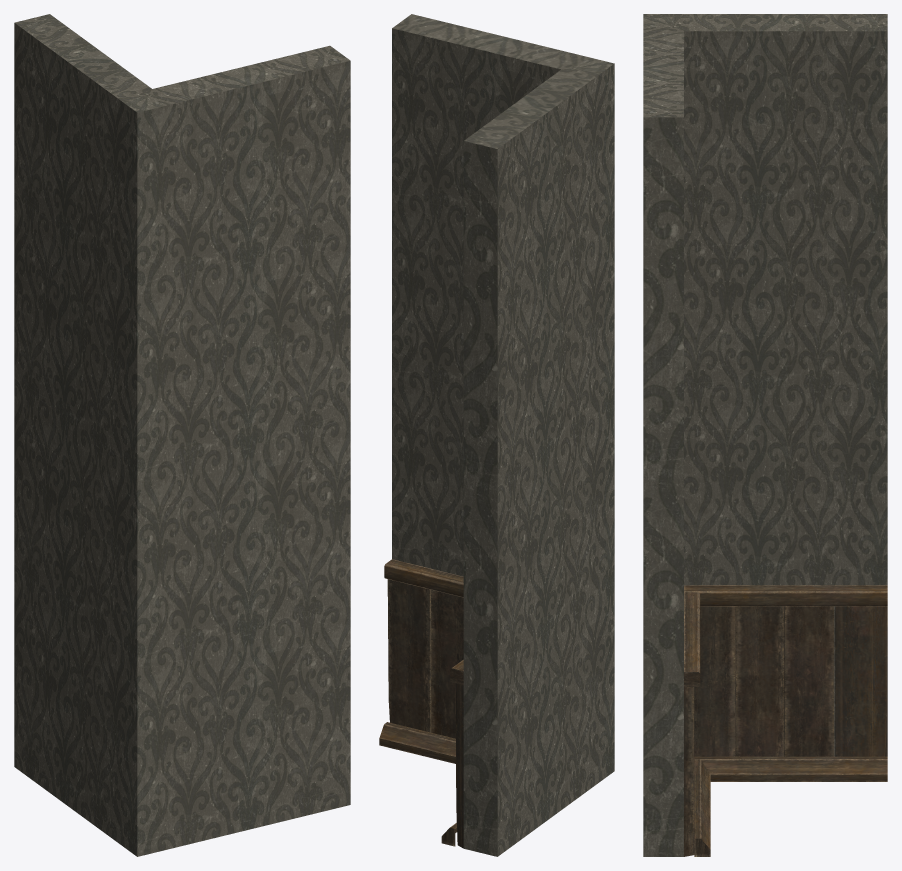
The model's file is SM_Wall_1m_Corn_Plinth.fbx.
3 views of the same model, side by side, from view 1: azimuth 30°, elevation 25°; view 2: azimuth 150°, elevation 25°; view 3: azimuth 270°, elevation 25° (orthographic). The views are drawn at different scales.
Visible parts, largest first — view 1: SM_Wall_1m_Corn_Plinth; view 2: SM_Wall_1m_Corn_Plinth, SM_Wall_1m_Corn_Plinth.001; view 3: SM_Wall_1m_Corn_Plinth, SM_Wall_1m_Corn_Plinth.001.
Part boxes in pixels (x1,y1,x2,y2): SM_Wall_1m_Corn_Plinth: (14, 14, 350, 856); SM_Wall_1m_Corn_Plinth: (392, 14, 614, 856); SM_Wall_1m_Corn_Plinth.001: (379, 559, 463, 848); SM_Wall_1m_Corn_Plinth: (643, 14, 887, 856); SM_Wall_1m_Corn_Plinth.001: (684, 585, 887, 856).
Size of the model in its own units: 1.2 by 4 by 1.2.
